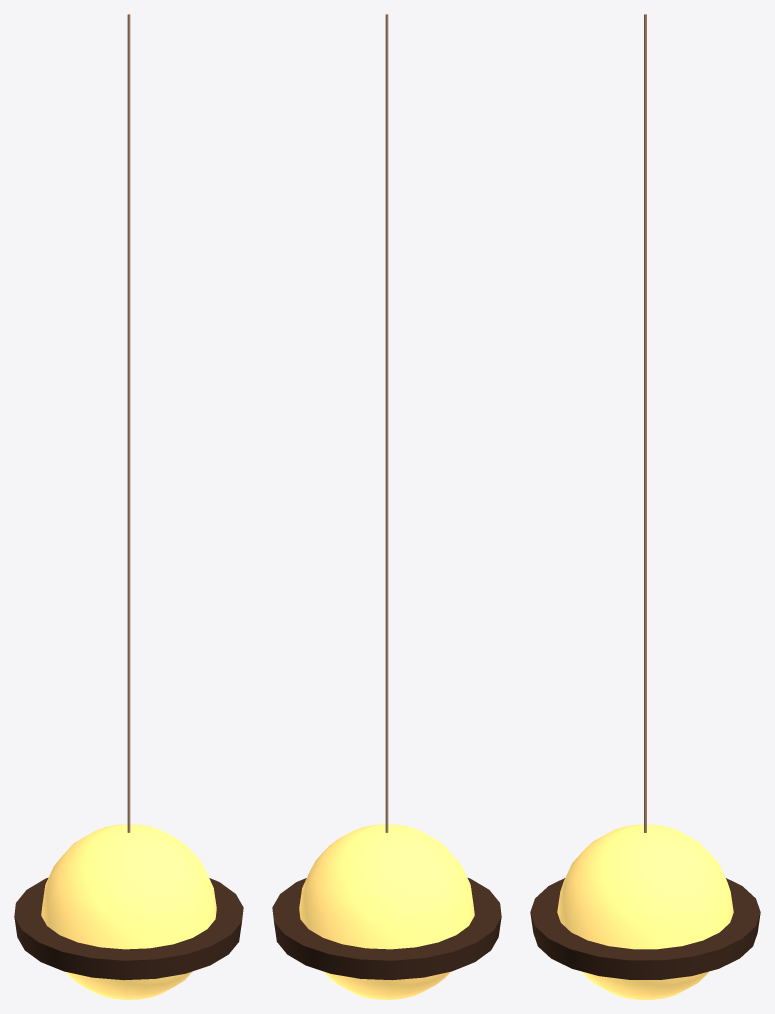
The model's file is Luce 1 Gialla.fbx.
3 views of the same model, side by side, from view 1: azimuth 30°, elevation 25°; view 2: azimuth 150°, elevation 25°; view 3: azimuth 270°, elevation 25° (orthographic).
Parts seen in each view (by area): view 1: Sphere.011; view 2: Sphere.011; view 3: Sphere.011.
Boxes of the visible parts, x1,y1,x2,y2 form: Sphere.011: (14,14,243,999); Sphere.011: (272,14,501,999); Sphere.011: (530,14,760,999).
Bounding box in the file's own units: 49.96 × 236 × 50.47.
